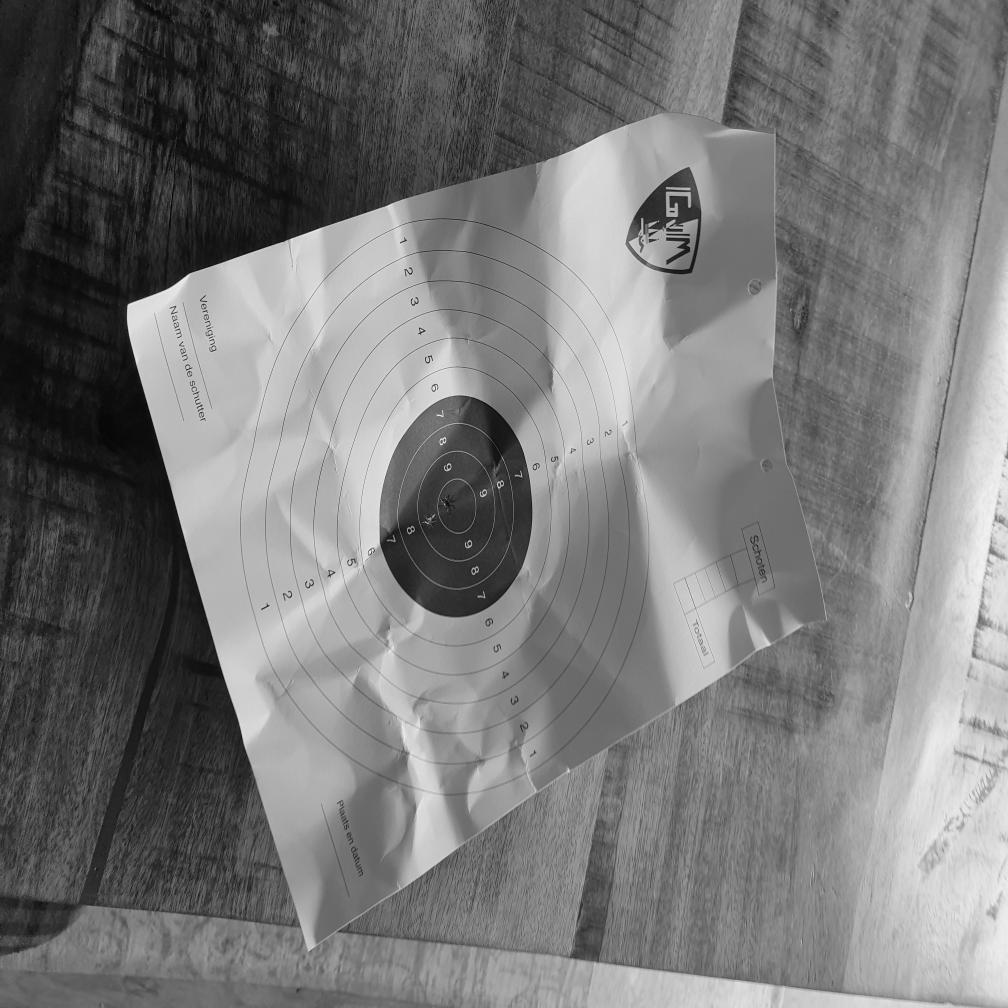10: (439, 494, 456, 516)
9: (421, 508, 439, 530)
Target: (238, 214, 650, 800)
black_contour: (380, 395, 532, 618)
